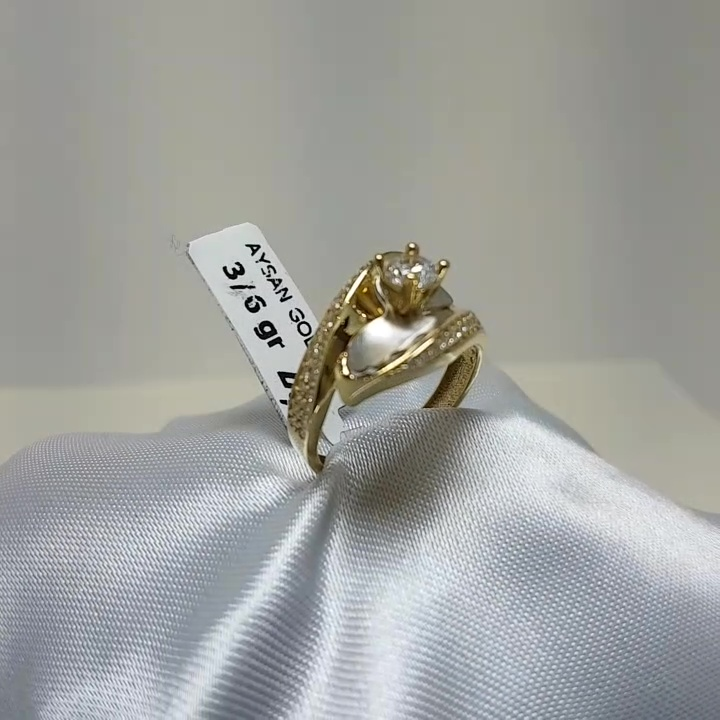Ring 6: (274, 216, 530, 503)
